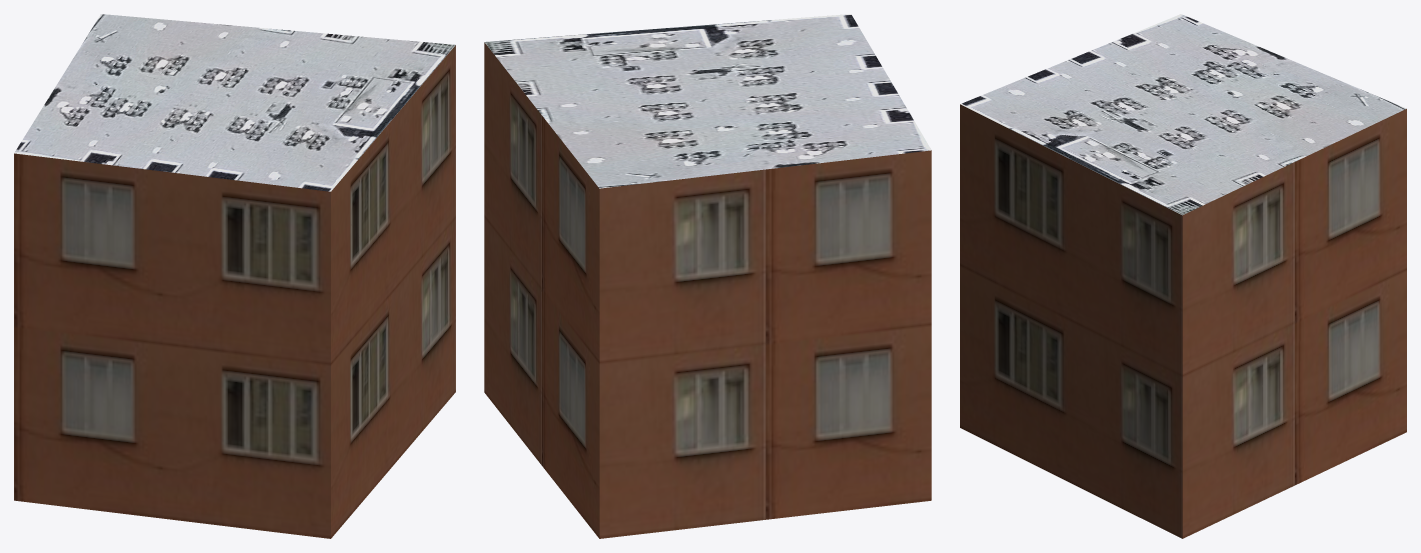
File: ResTex__3464.fbx
The picture shows the model from 3 angles, left to right: view 1: azimuth 30°, elevation 25°; view 2: azimuth 150°, elevation 25°; view 3: azimuth 270°, elevation 25°; orthographic projection. The views are drawn at different scales.
Parts seen in each view (by area): view 1: CityEngineMaterial_20_m, CityEngineMaterial_8_m; view 2: CityEngineMaterial_20_m, CityEngineMaterial_8_m; view 3: CityEngineMaterial_20_m, CityEngineMaterial_8_m.
Boxes of the visible parts, x1=… form: CityEngineMaterial_20_m: x1=14, y1=45, x2=455, y2=538; CityEngineMaterial_8_m: x1=14, y1=14, x2=455, y2=191; CityEngineMaterial_20_m: x1=484, y1=42, x2=931, y2=538; CityEngineMaterial_8_m: x1=484, y1=14, x2=931, y2=188; CityEngineMaterial_20_m: x1=960, y1=104, x2=1406, y2=538; CityEngineMaterial_8_m: x1=960, y1=14, x2=1406, y2=215.
Bounding box in the file's own units: 8.01 × 6 × 7.51.
Materials: 2 (2 with a texture image).
